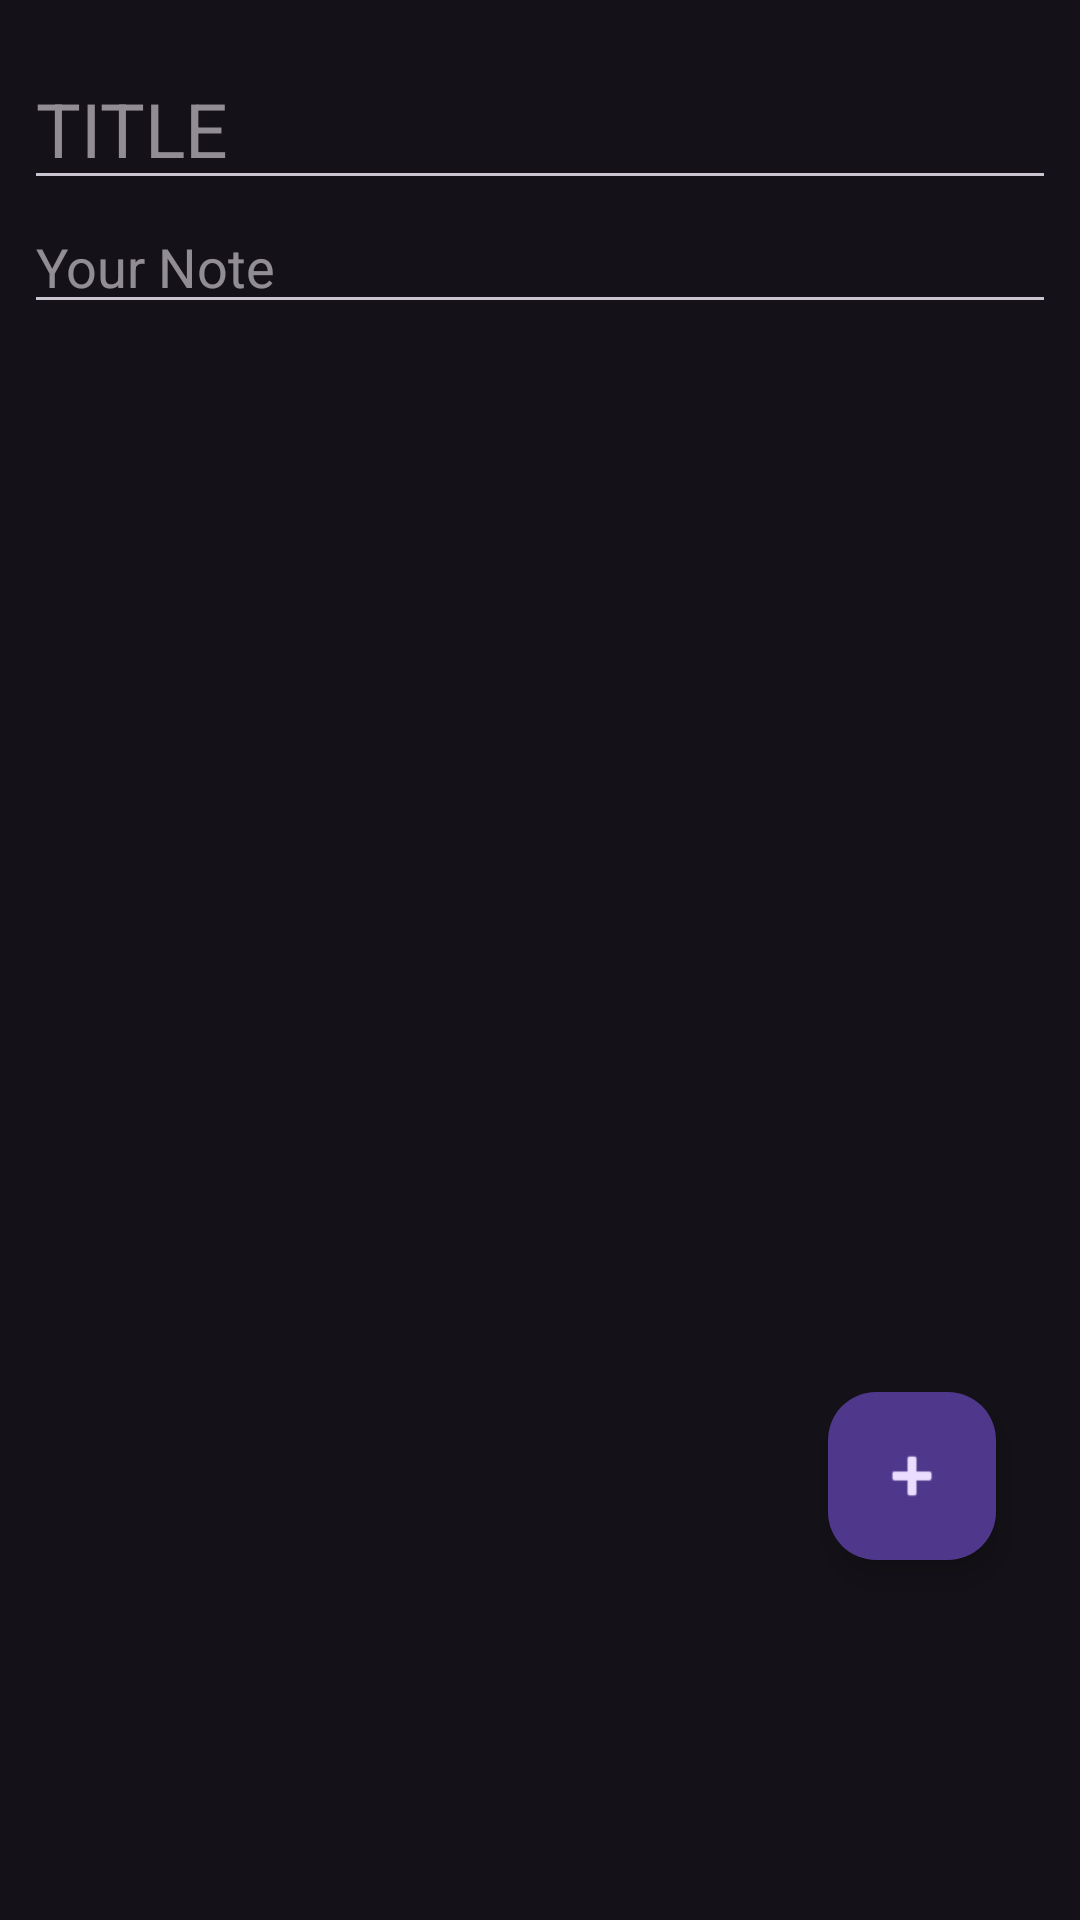

Icon click points for this 1080×1920 phone screenshot, format [x,y]:
add: [912,1476]
